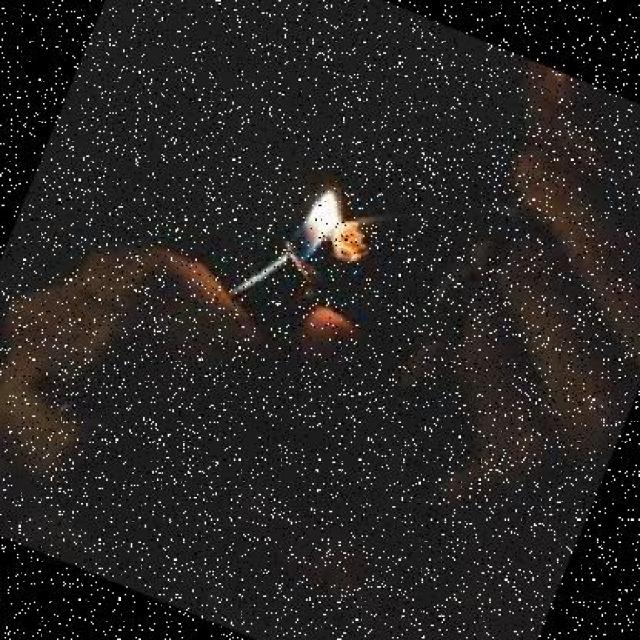fire: (274, 171, 361, 278)
